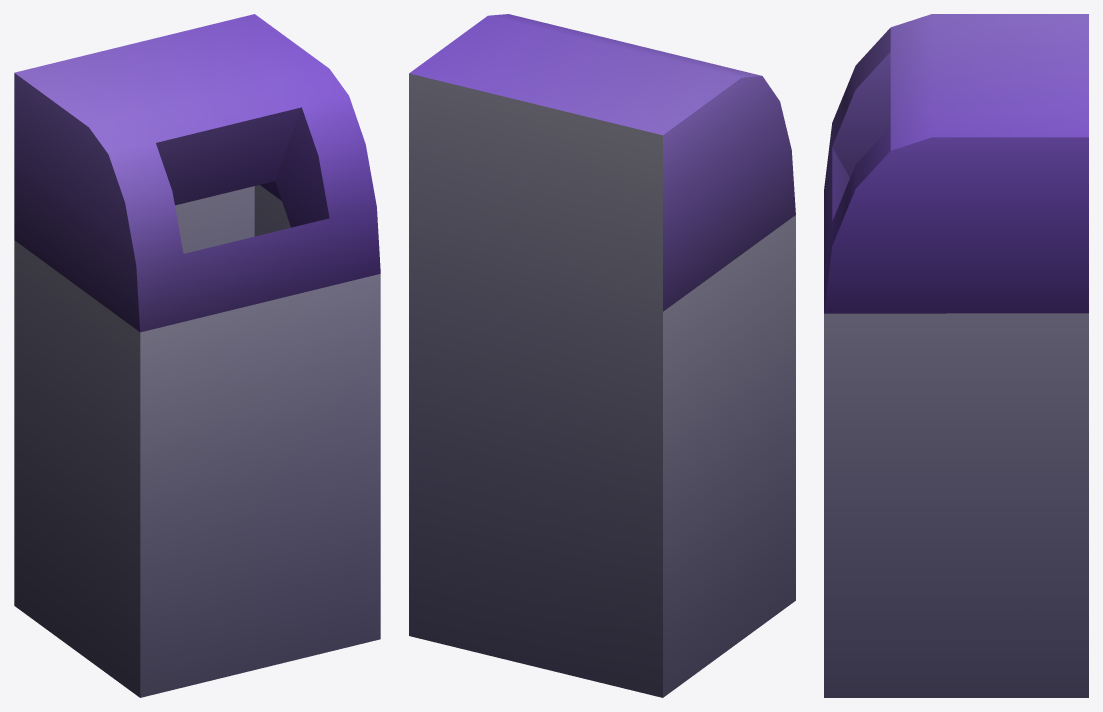
File: Trash.fbx
3 views of the same model, side by side, from view 1: azimuth 30°, elevation 25°; view 2: azimuth 150°, elevation 25°; view 3: azimuth 270°, elevation 25° (orthographic). The views are drawn at different scales.
Visible parts, largest first — view 1: Trash; view 2: Trash; view 3: Trash.
Part boxes in pixels (x1,y1,x2,y2): Trash: [14, 14, 380, 697]; Trash: [409, 14, 795, 697]; Trash: [824, 14, 1088, 697].
Bounding box in the file's own units: 0.4438 × 0.9395 × 0.4025.
